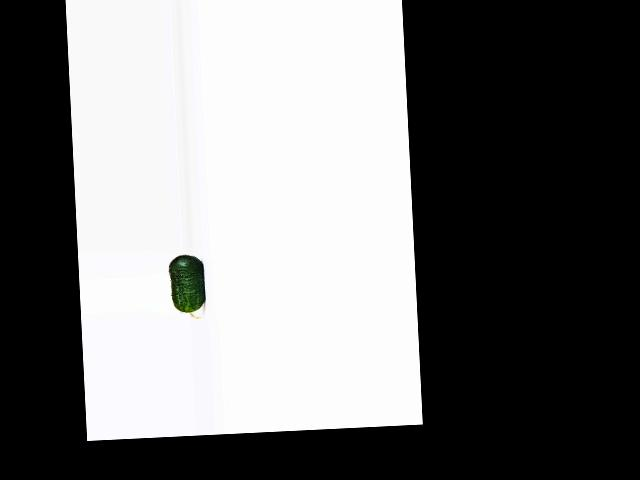cucumber: (167, 254, 206, 320)
